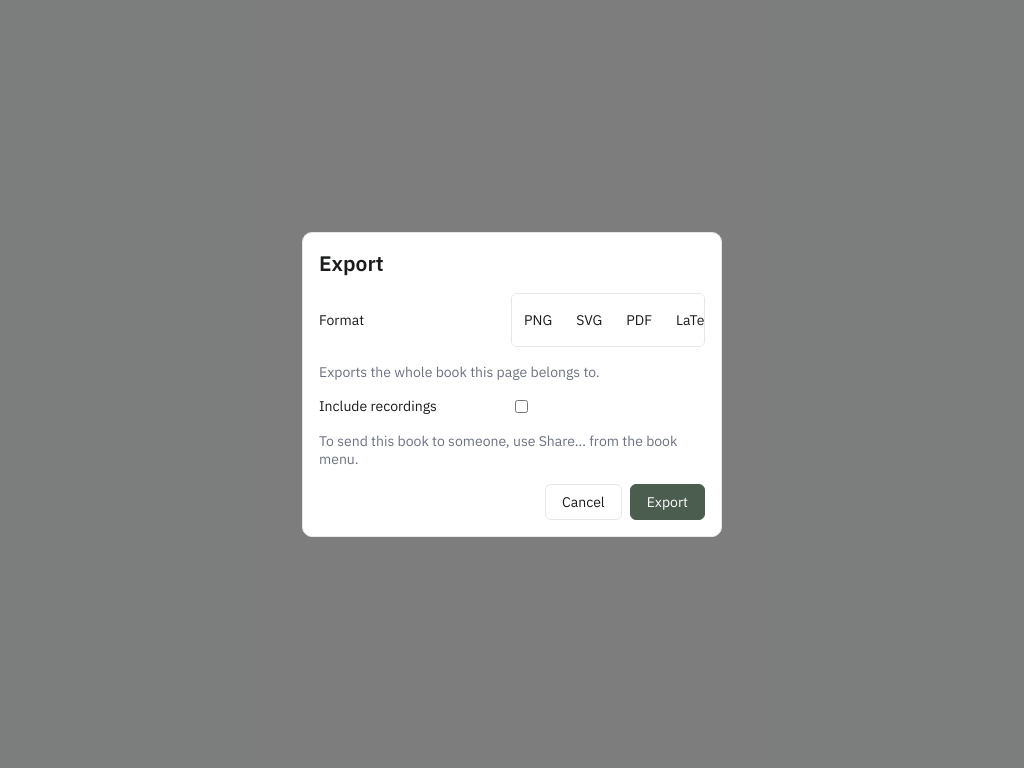
Test case: ExportDialog › include recordings › shows the archive size error from the export
Click the checkbox labelled "Include recordings" at (522, 406), box [515,400,528,412]
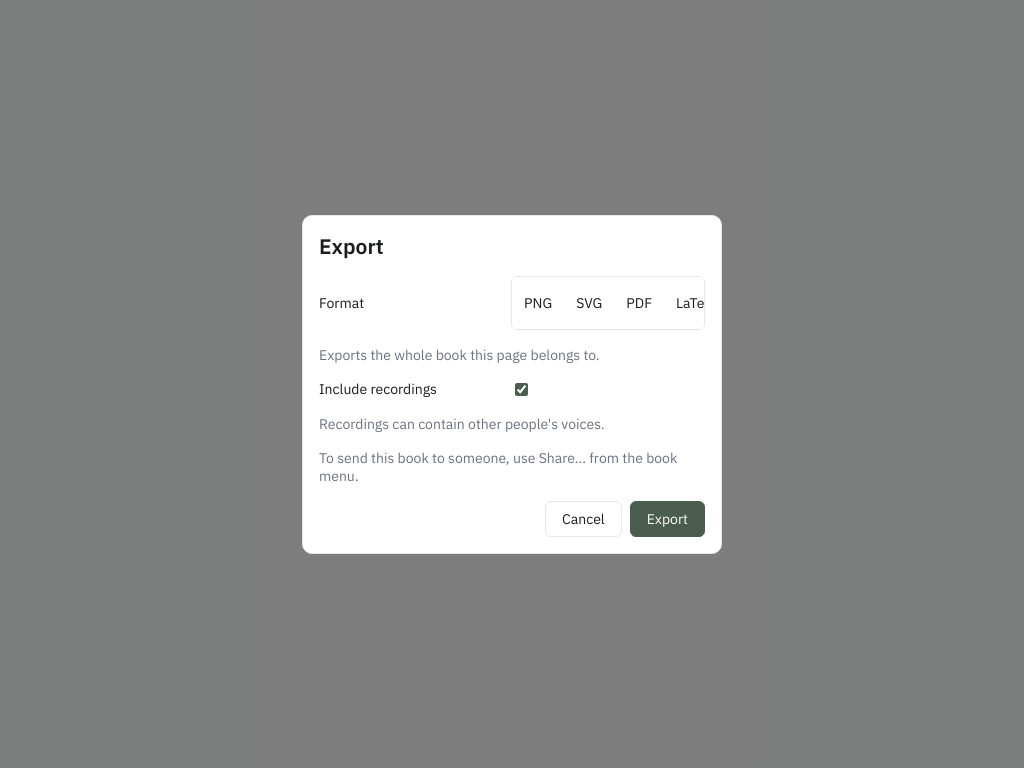
Click the button "Export" at (667, 518), box [630,500,705,536]
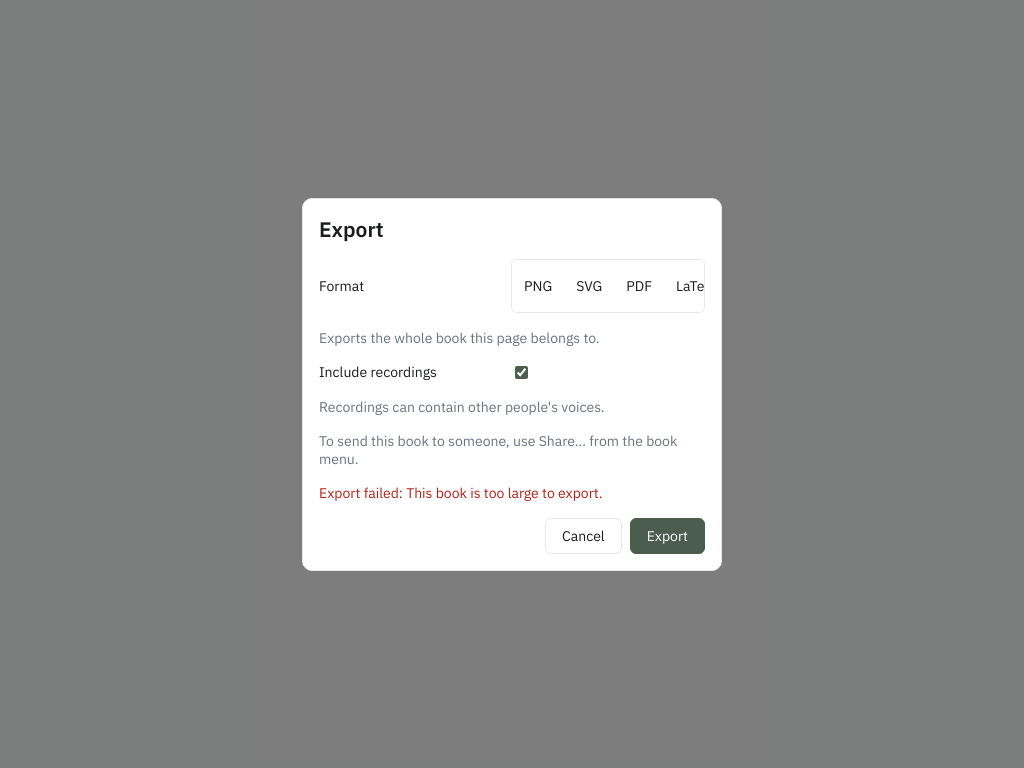
Result: the message shows "too large" at [319,484,603,502]
